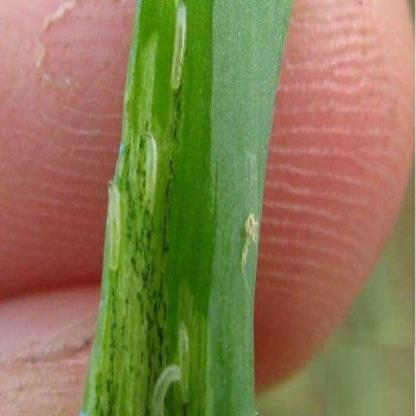whorl-maggot: (168, 1, 190, 100), (145, 362, 182, 416), (141, 122, 161, 218), (177, 316, 198, 406), (105, 176, 125, 270)
